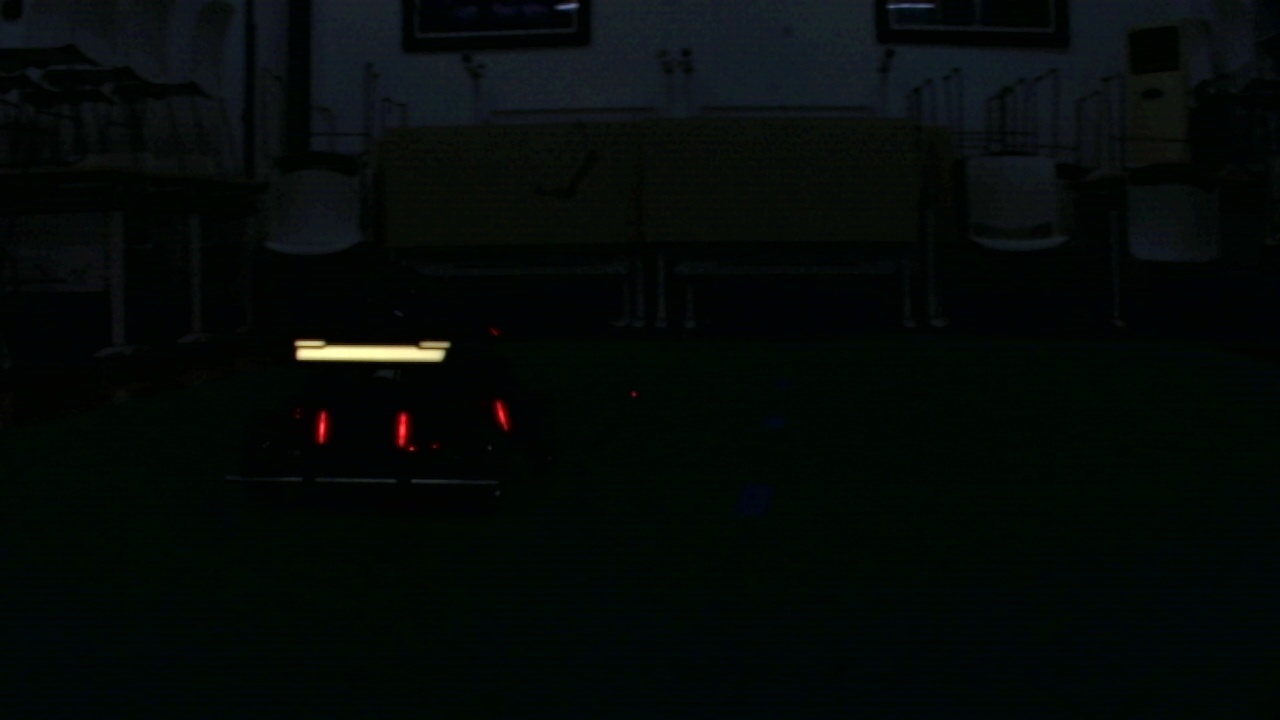lamp: (394, 409, 409, 449), (314, 411, 332, 444), (495, 400, 511, 431)
pair1: (313, 408, 410, 446)
